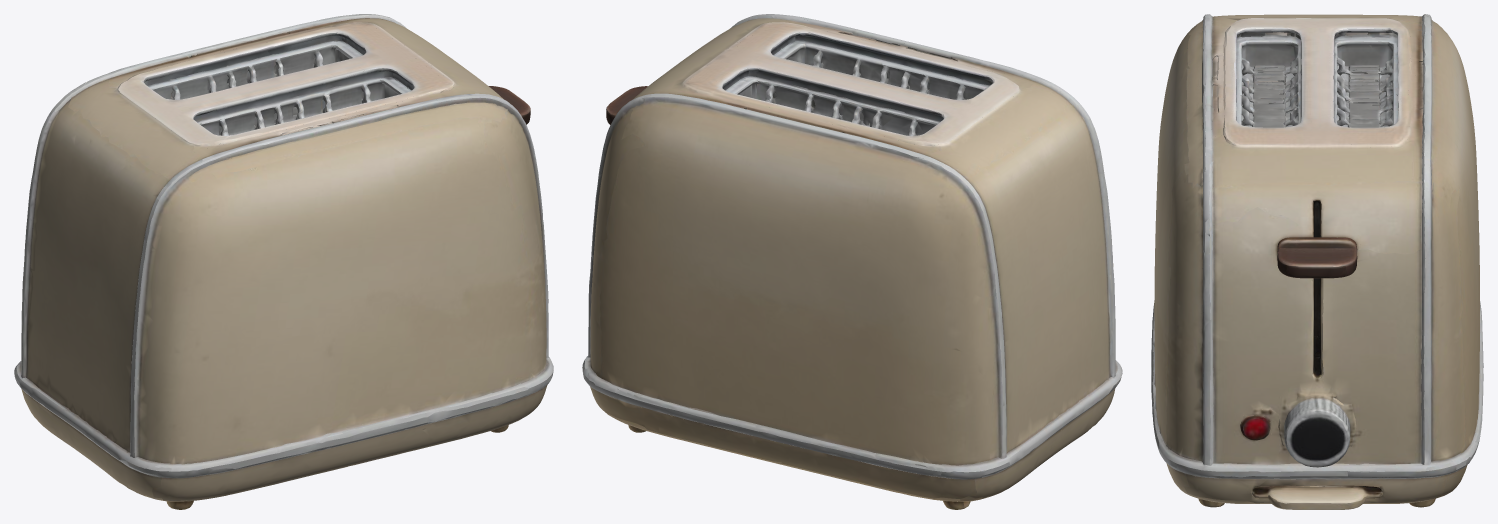
Rendered from parts.glb.
3 views of the same model, side by side, from view 1: azimuth 30°, elevation 25°; view 2: azimuth 150°, elevation 25°; view 3: azimuth 270°, elevation 25° (orthographic).
Size of the model in its own units: 0.28 by 0.2083 by 0.181.
4 materials, 4 textured.
